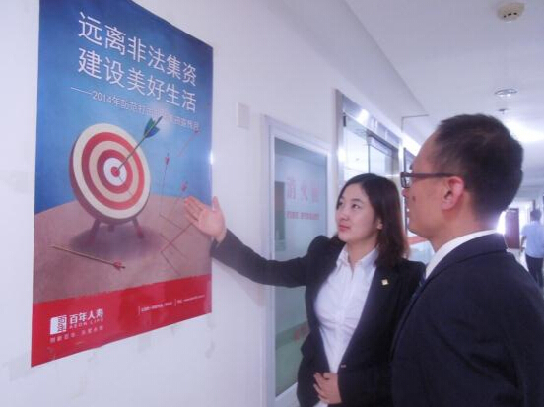bill: (31, 1, 213, 369)
